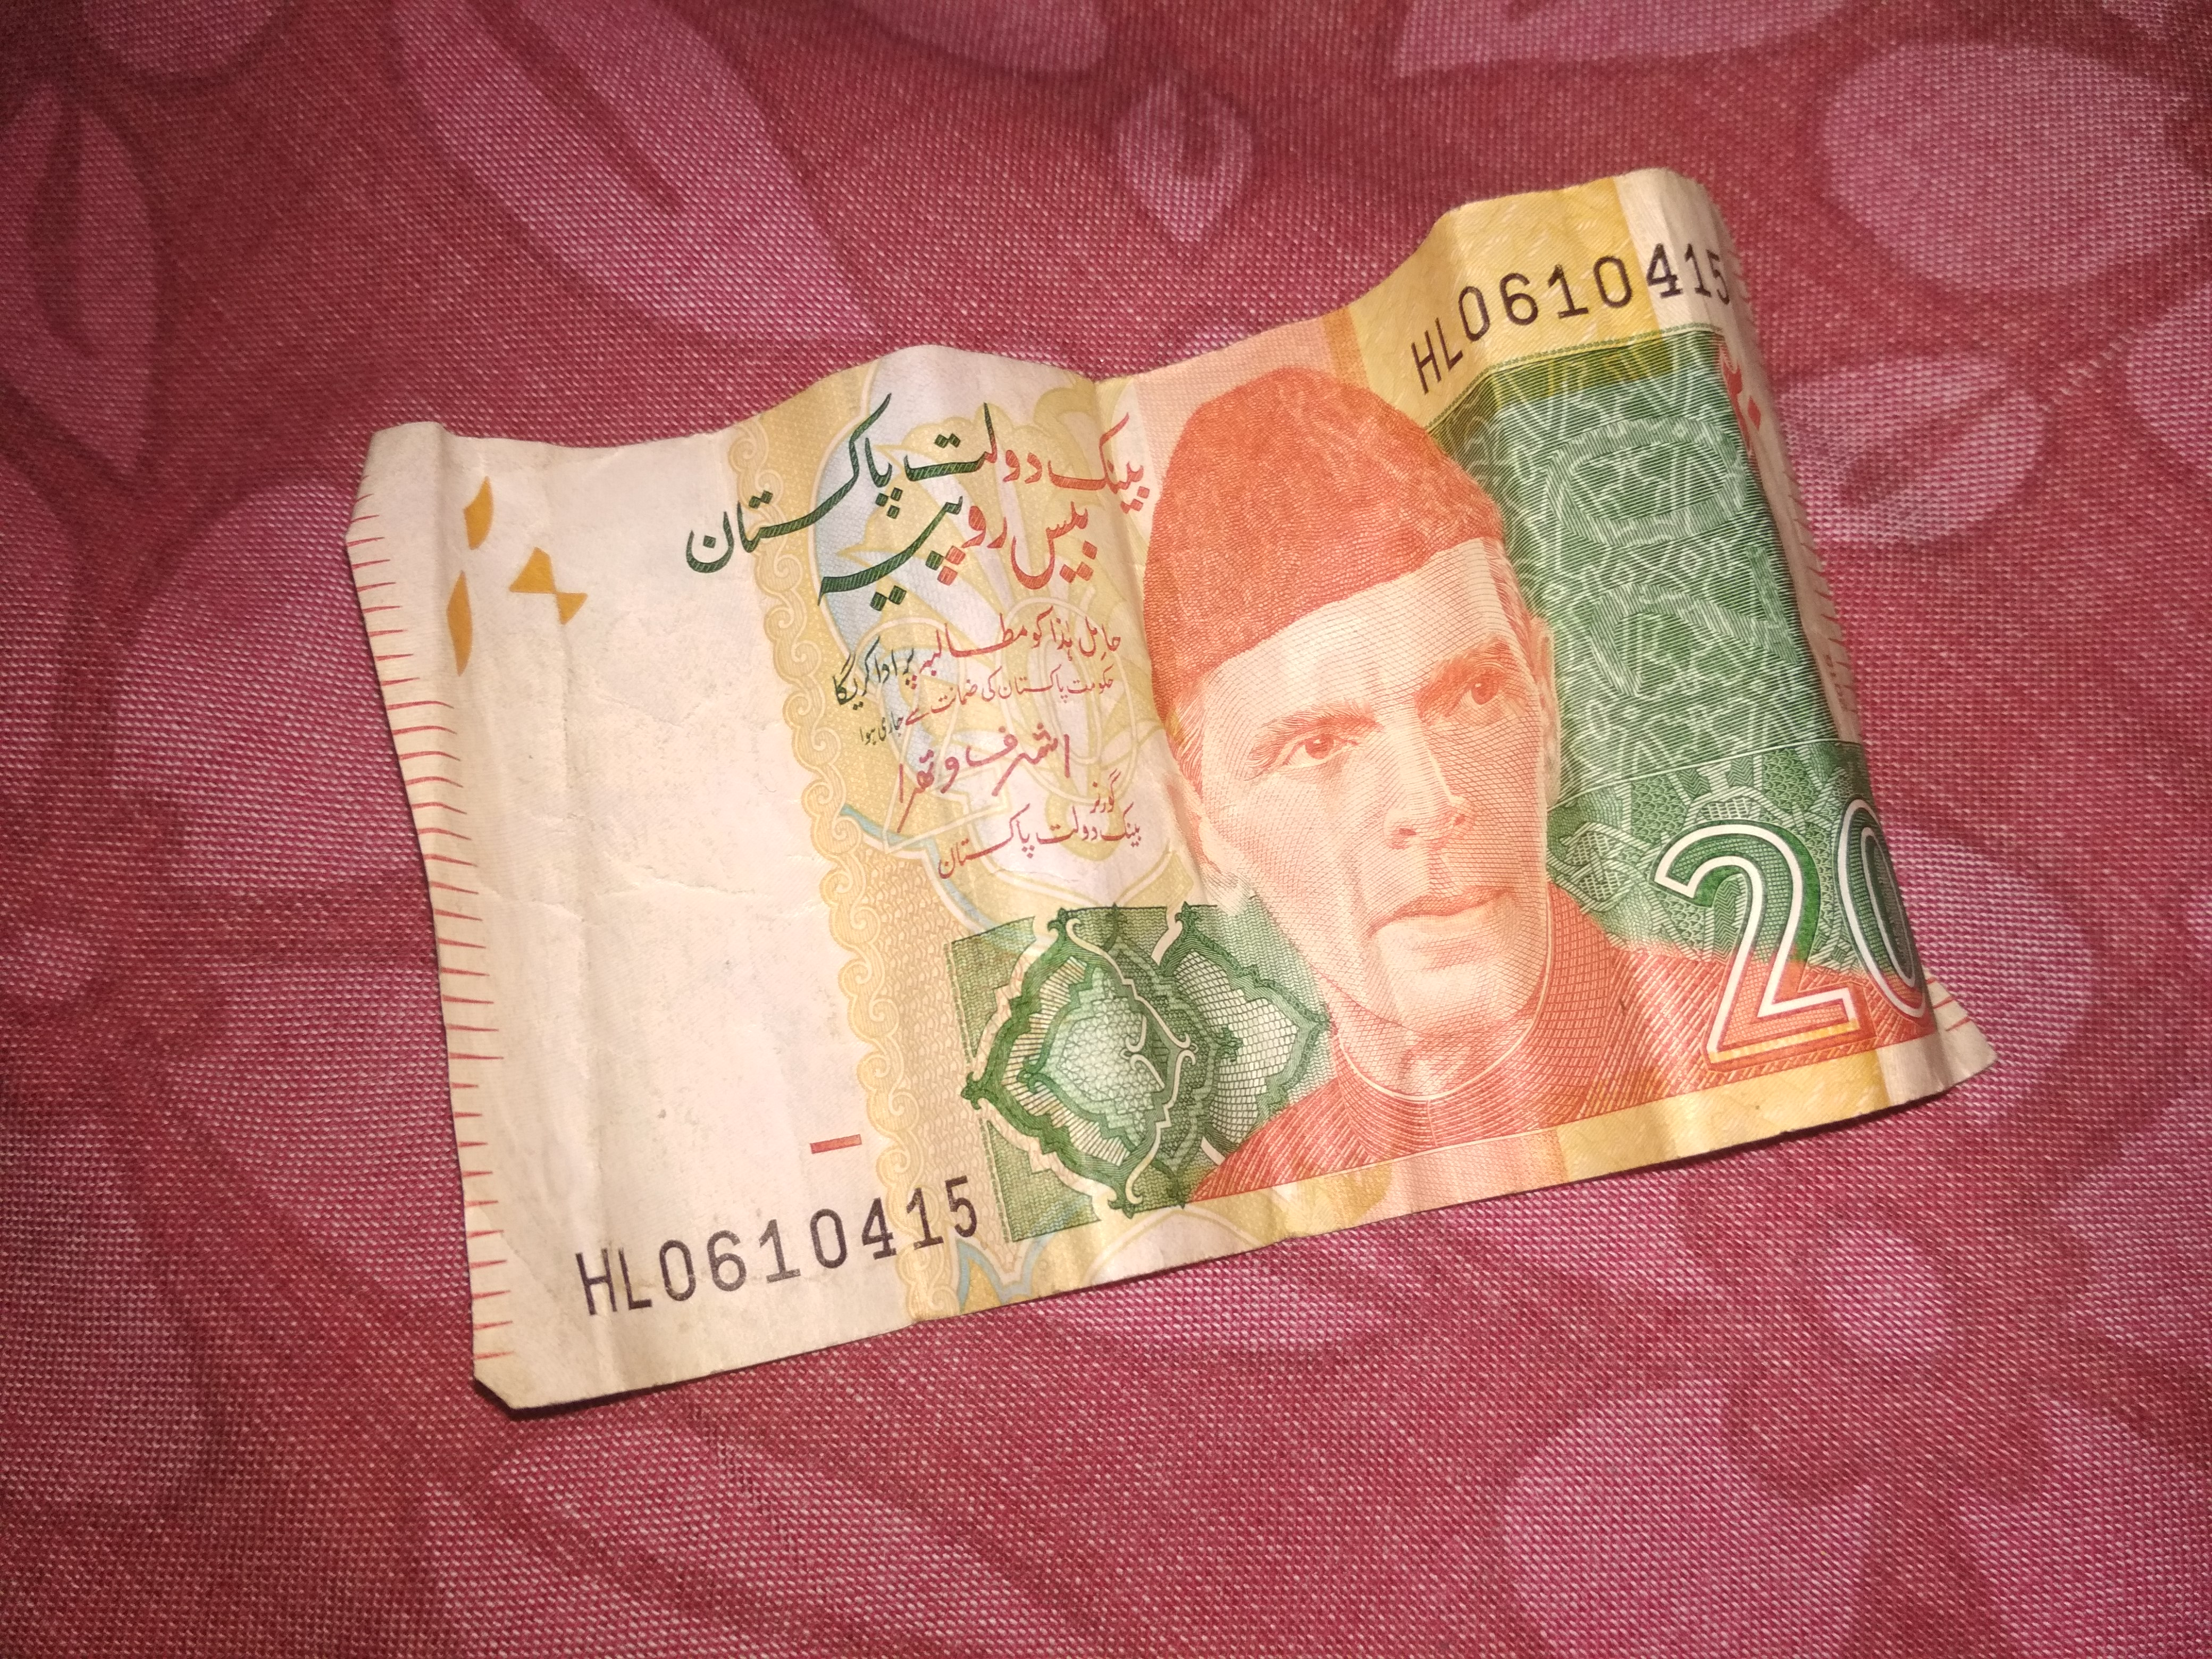20 rupee: (284, 148, 2055, 1419)
